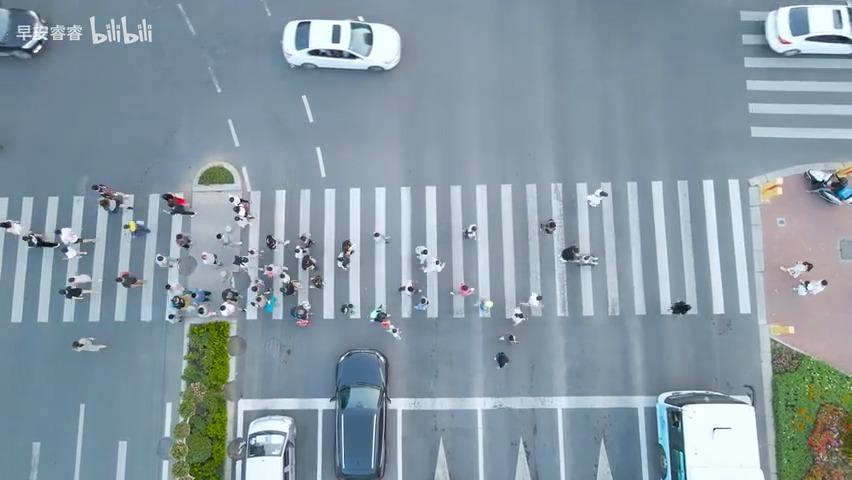Civilian: (50, 220, 91, 265), (370, 301, 402, 343), (558, 241, 597, 275), (331, 234, 363, 274), (89, 182, 127, 215), (222, 193, 256, 227), (450, 271, 480, 305), (161, 295, 188, 332), (286, 297, 316, 330), (581, 182, 615, 211), (667, 292, 694, 327), (526, 278, 553, 312), (367, 220, 394, 254), (457, 215, 486, 246), (471, 290, 503, 318), (496, 324, 528, 351), (396, 270, 422, 303), (161, 192, 196, 216), (144, 245, 177, 270), (194, 244, 222, 273), (407, 241, 436, 268), (261, 230, 292, 255), (251, 293, 281, 318), (506, 303, 532, 331), (123, 215, 151, 241), (538, 213, 567, 238), (51, 282, 80, 307), (208, 226, 238, 250), (335, 298, 361, 325), (188, 282, 216, 307), (412, 290, 437, 316), (779, 260, 813, 279), (297, 227, 321, 252), (792, 278, 827, 295), (215, 298, 237, 324), (169, 230, 195, 252), (247, 275, 267, 303), (115, 270, 146, 288), (275, 267, 296, 293), (71, 336, 106, 351), (68, 270, 95, 288), (307, 268, 329, 290), (221, 283, 241, 305), (258, 260, 281, 279), (160, 278, 184, 296), (195, 301, 213, 324), (233, 251, 254, 269), (493, 351, 509, 368)
